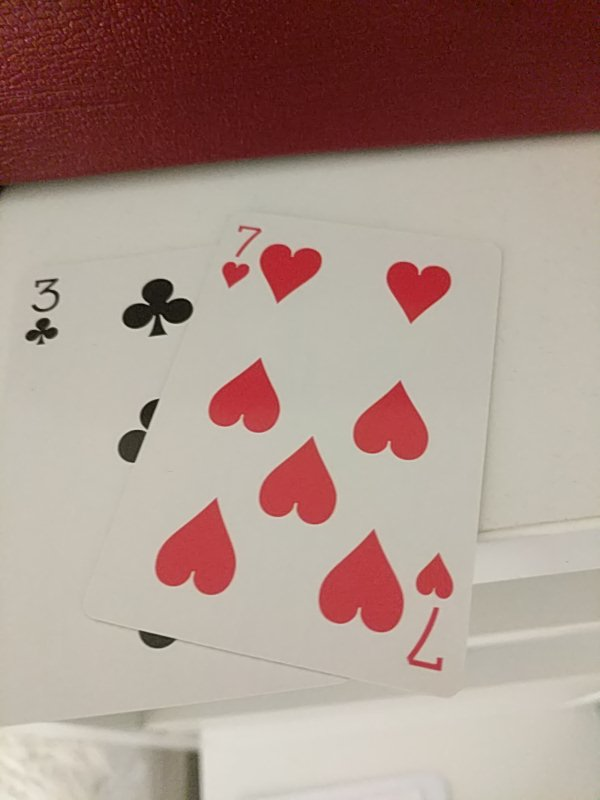Clubs: (16, 245, 351, 719)
Hearts: (86, 209, 507, 697)
